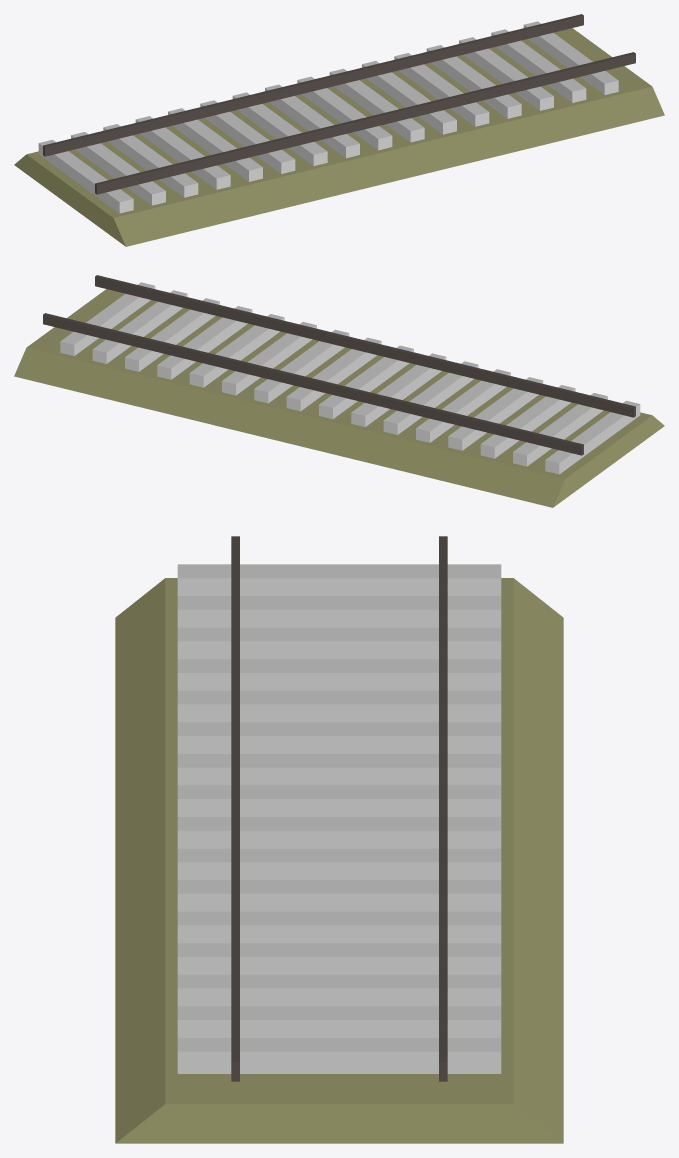
File: SM_Via_Recta10_v0_Hormigon_LOD0.fbx
3 renders of one model, top to bottom at view 1: azimuth 30°, elevation 25°; view 2: azimuth 150°, elevation 25°; view 3: azimuth 270°, elevation 25°, orthographic. The views are drawn at different scales.
Visible parts, largest first — view 1: SM_via_trazado_v0_LOD0; view 2: SM_via_trazado_v0_LOD0; view 3: SM_via_trazado_v0_LOD0.
Boxes of the visible parts, x1,y1,x2,y2 form: SM_via_trazado_v0_LOD0: (14, 14, 664, 246); SM_via_trazado_v0_LOD0: (14, 275, 664, 507); SM_via_trazado_v0_LOD0: (115, 536, 563, 1143).
Size of the model in its own units: 10 by 0.72 by 3.6.
